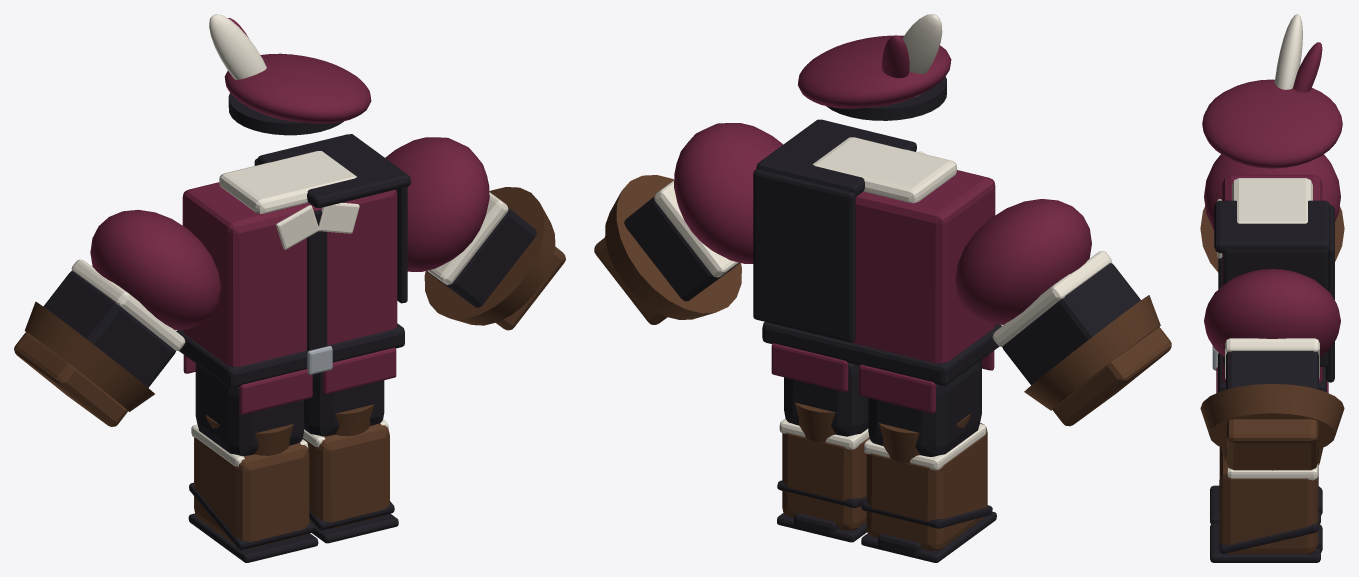
File: DuelistArmorSet.glb
The picture shows the model from 3 angles, left to right: view 1: azimuth 30°, elevation 25°; view 2: azimuth 150°, elevation 25°; view 3: azimuth 270°, elevation 25°; orthographic projection. The views are drawn at different scales.
Visible parts, largest first — view 1: DuelistChestplate, Right (×3), Left (×3), DuelistHelmet; view 2: DuelistChestplate, Right (×3), Left (×3), DuelistHelmet; view 3: Left (×3), DuelistChestplate, DuelistHelmet, Right (×2).
Boxes of the visible parts, x1,y1,x2,y2 form: DuelistChestplate: [176, 134, 410, 414]; Right (×3): [14, 209, 318, 562]; Left (×3): [302, 137, 565, 543]; DuelistHelmet: [209, 14, 371, 135]; DuelistChestplate: [753, 119, 1001, 413]; Right (×3): [861, 199, 1171, 562]; Left (×3): [594, 123, 869, 542]; DuelistHelmet: [798, 14, 951, 120]; Left (×3): [1200, 269, 1344, 562]; DuelistChestplate: [1212, 174, 1334, 392]; DuelistHelmet: [1202, 14, 1342, 168]; Right (×2): [1200, 154, 1344, 523].
Bounding box in the file's own units: 6.33 × 6.09 × 1.64.
